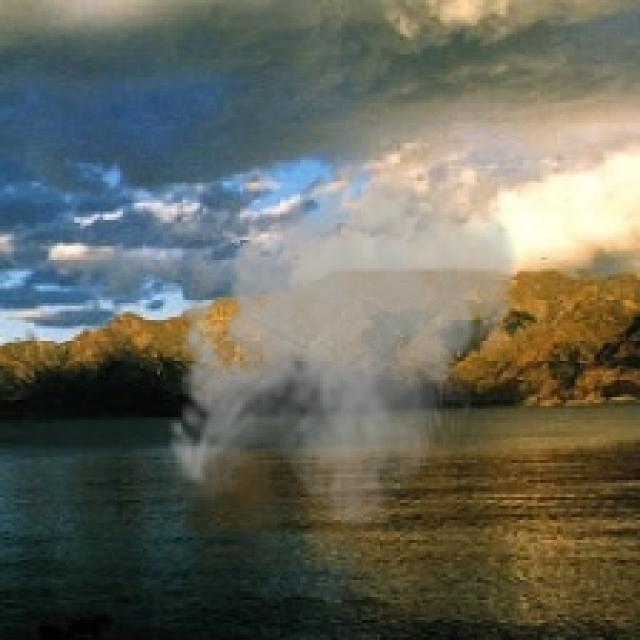Smoke: (157, 154, 526, 529)
